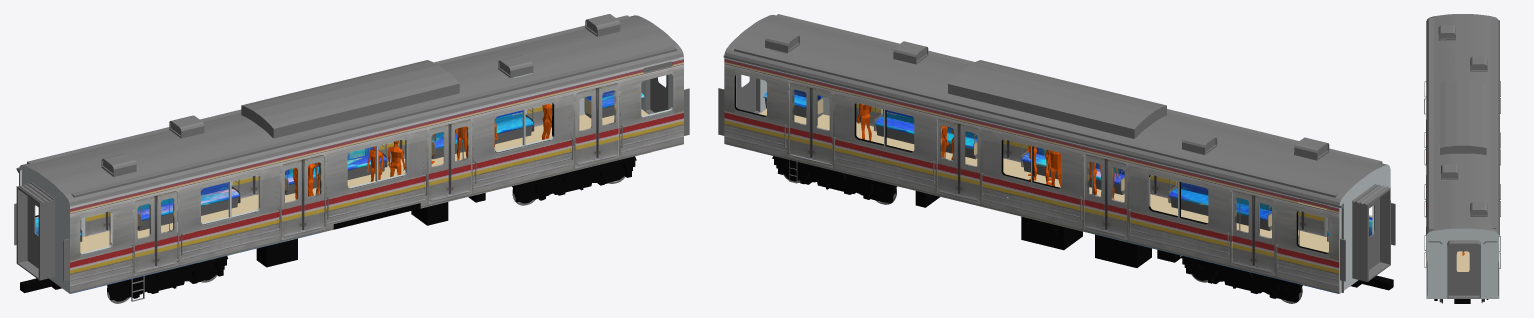
Rendered from train-low.glb.
The picture shows the model from 3 angles, left to right: view 1: azimuth 30°, elevation 25°; view 2: azimuth 150°, elevation 25°; view 3: azimuth 270°, elevation 25°; orthographic projection. The views are drawn at different scales.
Parts seen in each view (by area): view 1: Full Train.002, Door.032, Peron Door.002, Peron Door 2.002; view 2: Full Train.002, Door.032, Peron Door.002, Peron Door 2.002; view 3: Full Train.002, Peron Door 2.002.
Boxes of the visible parts, bbox=[...] form: Full Train.002: bbox=[14, 14, 689, 303]; Door.032: bbox=[85, 83, 618, 272]; Peron Door.002: bbox=[27, 196, 38, 268]; Peron Door 2.002: bbox=[650, 75, 668, 112]; Full Train.002: bbox=[718, 14, 1395, 303]; Door.032: bbox=[790, 83, 1324, 271]; Peron Door.002: bbox=[1369, 197, 1379, 269]; Peron Door 2.002: bbox=[738, 74, 755, 112]; Full Train.002: bbox=[1424, 14, 1500, 303]; Peron Door 2.002: bbox=[1448, 245, 1479, 295].
Size of the model in its own units: 21.95 by 4.62 by 3.89.
3 materials, 1 textured.
